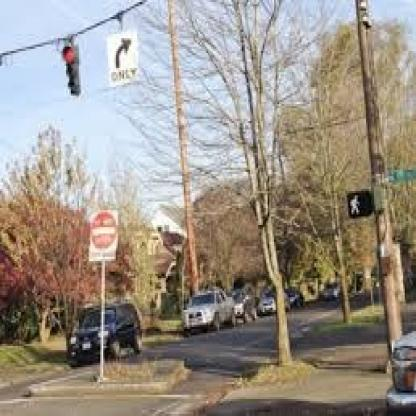Traffic Signal: (62, 42, 82, 94)
Walk: (348, 191, 377, 222)
